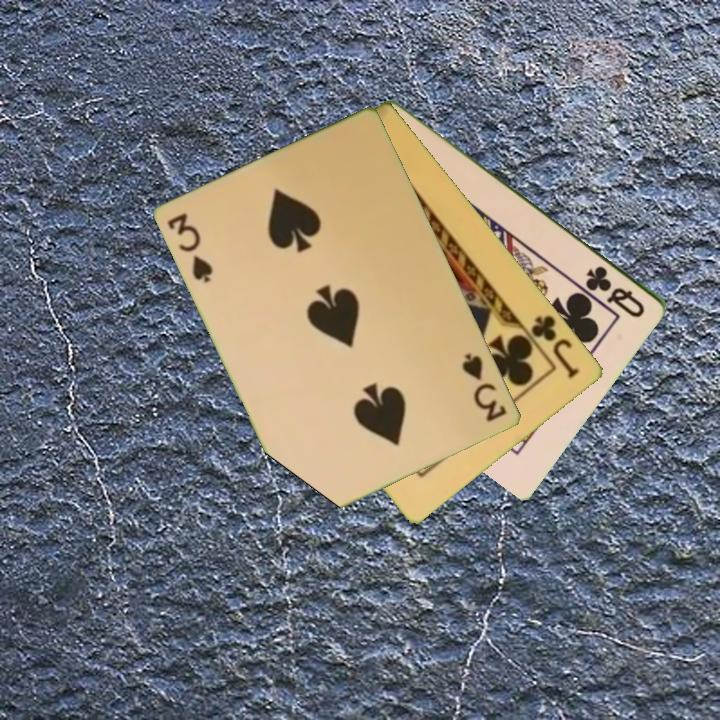3s: (164, 209, 217, 286), (459, 350, 511, 425)
Jc: (519, 311, 583, 382)
Qc: (582, 262, 649, 321)
